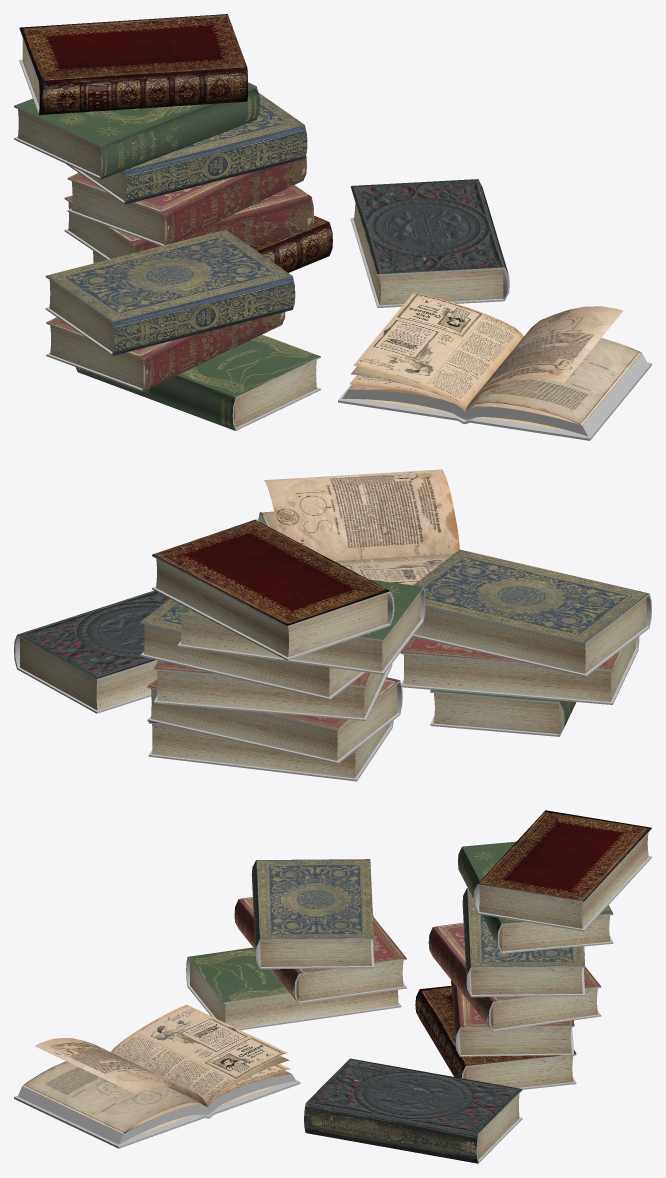
Rendered from Old_Books_OBJ.obj.
3 views of the same model, one above another, from view 1: azimuth 30°, elevation 25°; view 2: azimuth 150°, elevation 25°; view 3: azimuth 270°, elevation 25° (orthographic). The views are drawn at different scales.
Parts seen in each view (by area): view 1: Books; view 2: Books; view 3: Books.
Part boxes in pixels (x1,y1,x2,y2): Books: (14, 14, 651, 440); Books: (14, 469, 651, 781); Books: (14, 810, 651, 1163).
Bounding box in the file's own units: 34.81 × 13.34 × 42.44.
